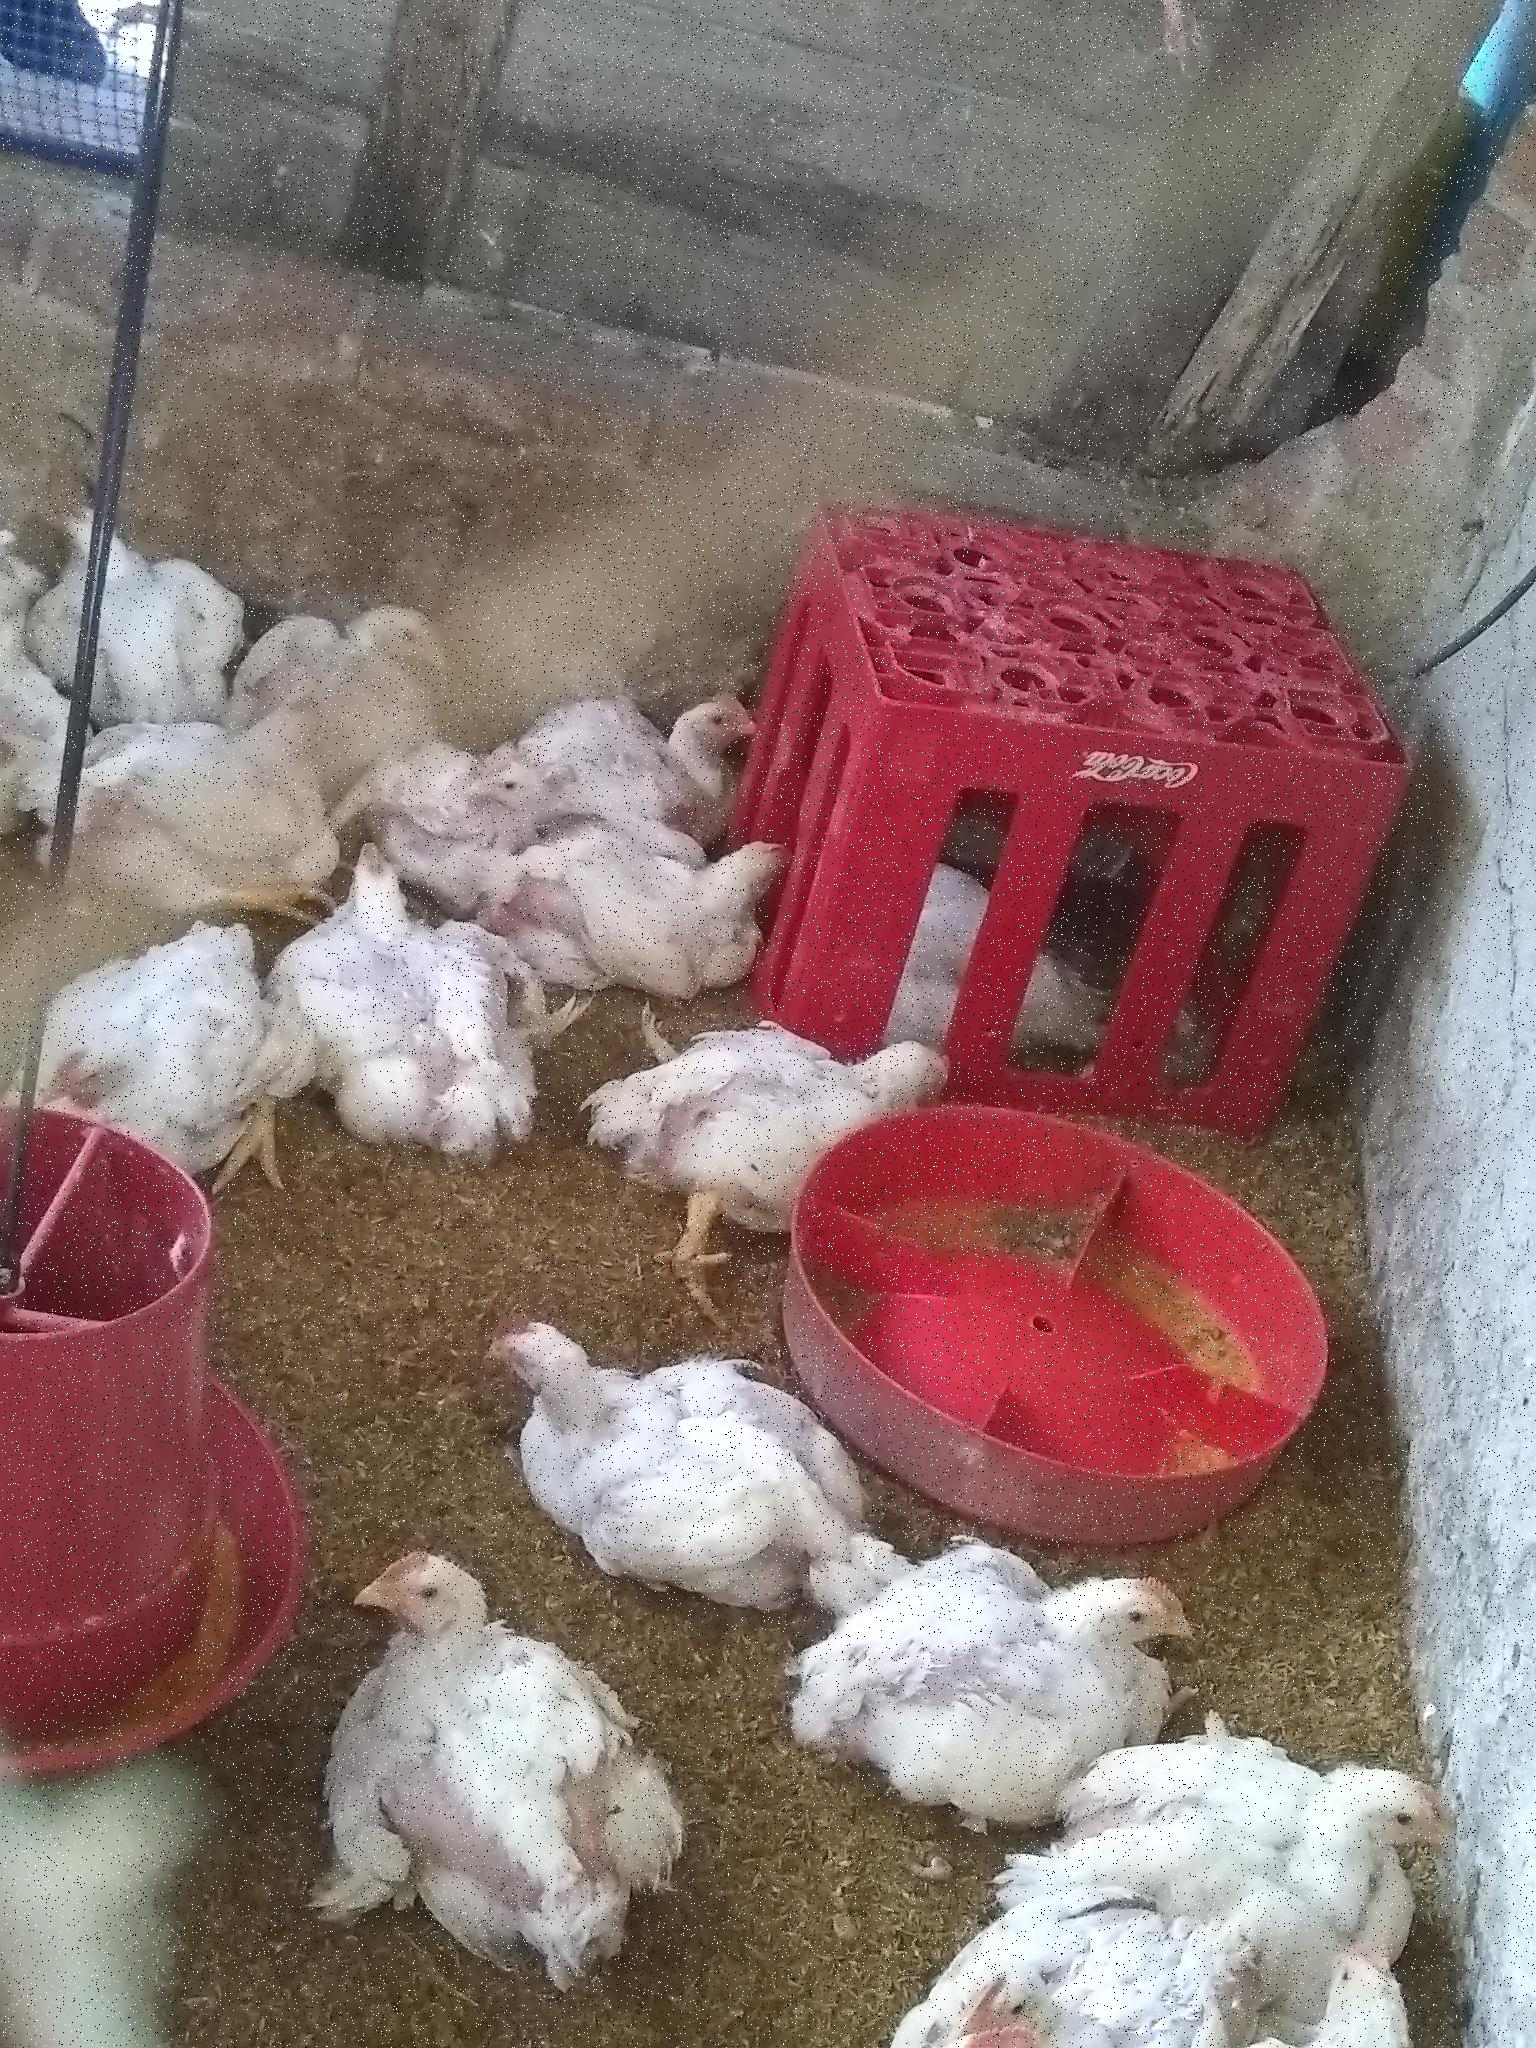Pollos: (342, 1546, 678, 1963), (828, 1532, 1258, 1761), (602, 997, 975, 1253), (508, 1313, 866, 1545), (936, 792, 1217, 1072), (287, 872, 570, 1147), (1191, 1806, 1433, 2048), (55, 939, 269, 1180), (32, 472, 234, 719), (239, 576, 490, 769), (1141, 1743, 1455, 1892), (928, 1859, 1160, 2048), (544, 827, 831, 979), (2, 555, 103, 863), (611, 634, 778, 800), (392, 729, 574, 850)
